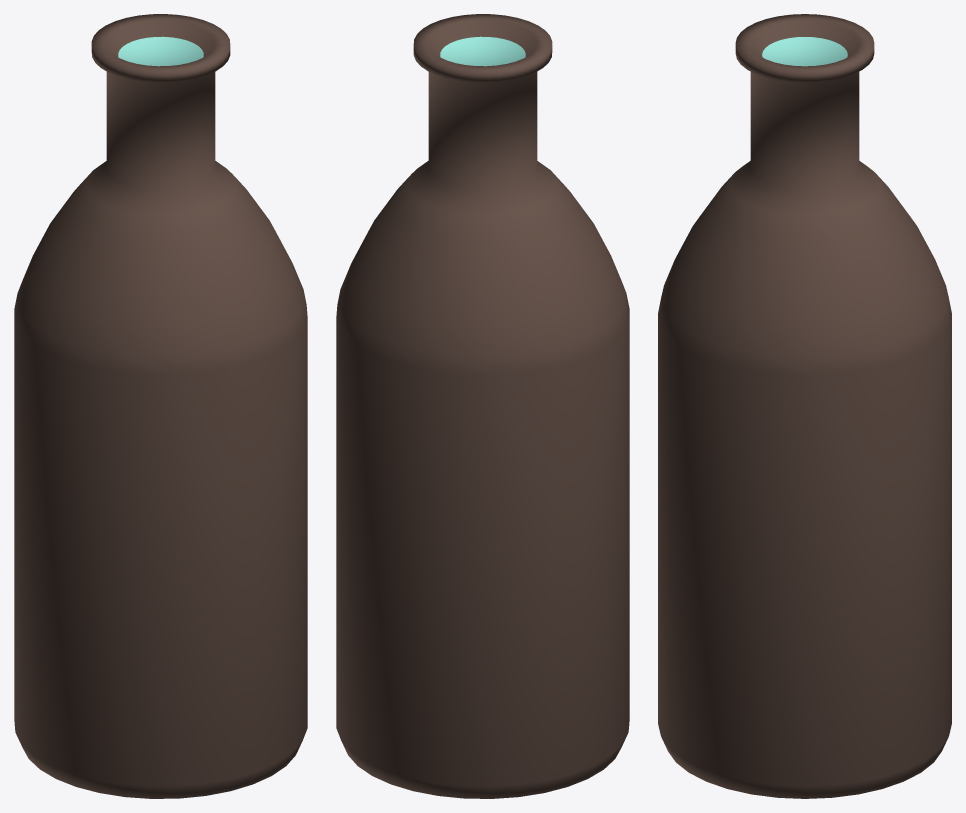
The model's file is waterBottle.fbx.
3 views of the same model, side by side, from view 1: azimuth 30°, elevation 25°; view 2: azimuth 150°, elevation 25°; view 3: azimuth 270°, elevation 25° (orthographic).
Parts seen in each view (by area): view 1: Circle; view 2: Circle; view 3: Circle.
Boxes of the visible parts, x1=… form: Circle: x1=14, y1=14, x2=307, y2=798; Circle: x1=336, y1=14, x2=629, y2=798; Circle: x1=658, y1=14, x2=951, y2=798.
Size of the model in its own units: 200 by 528 by 200.
